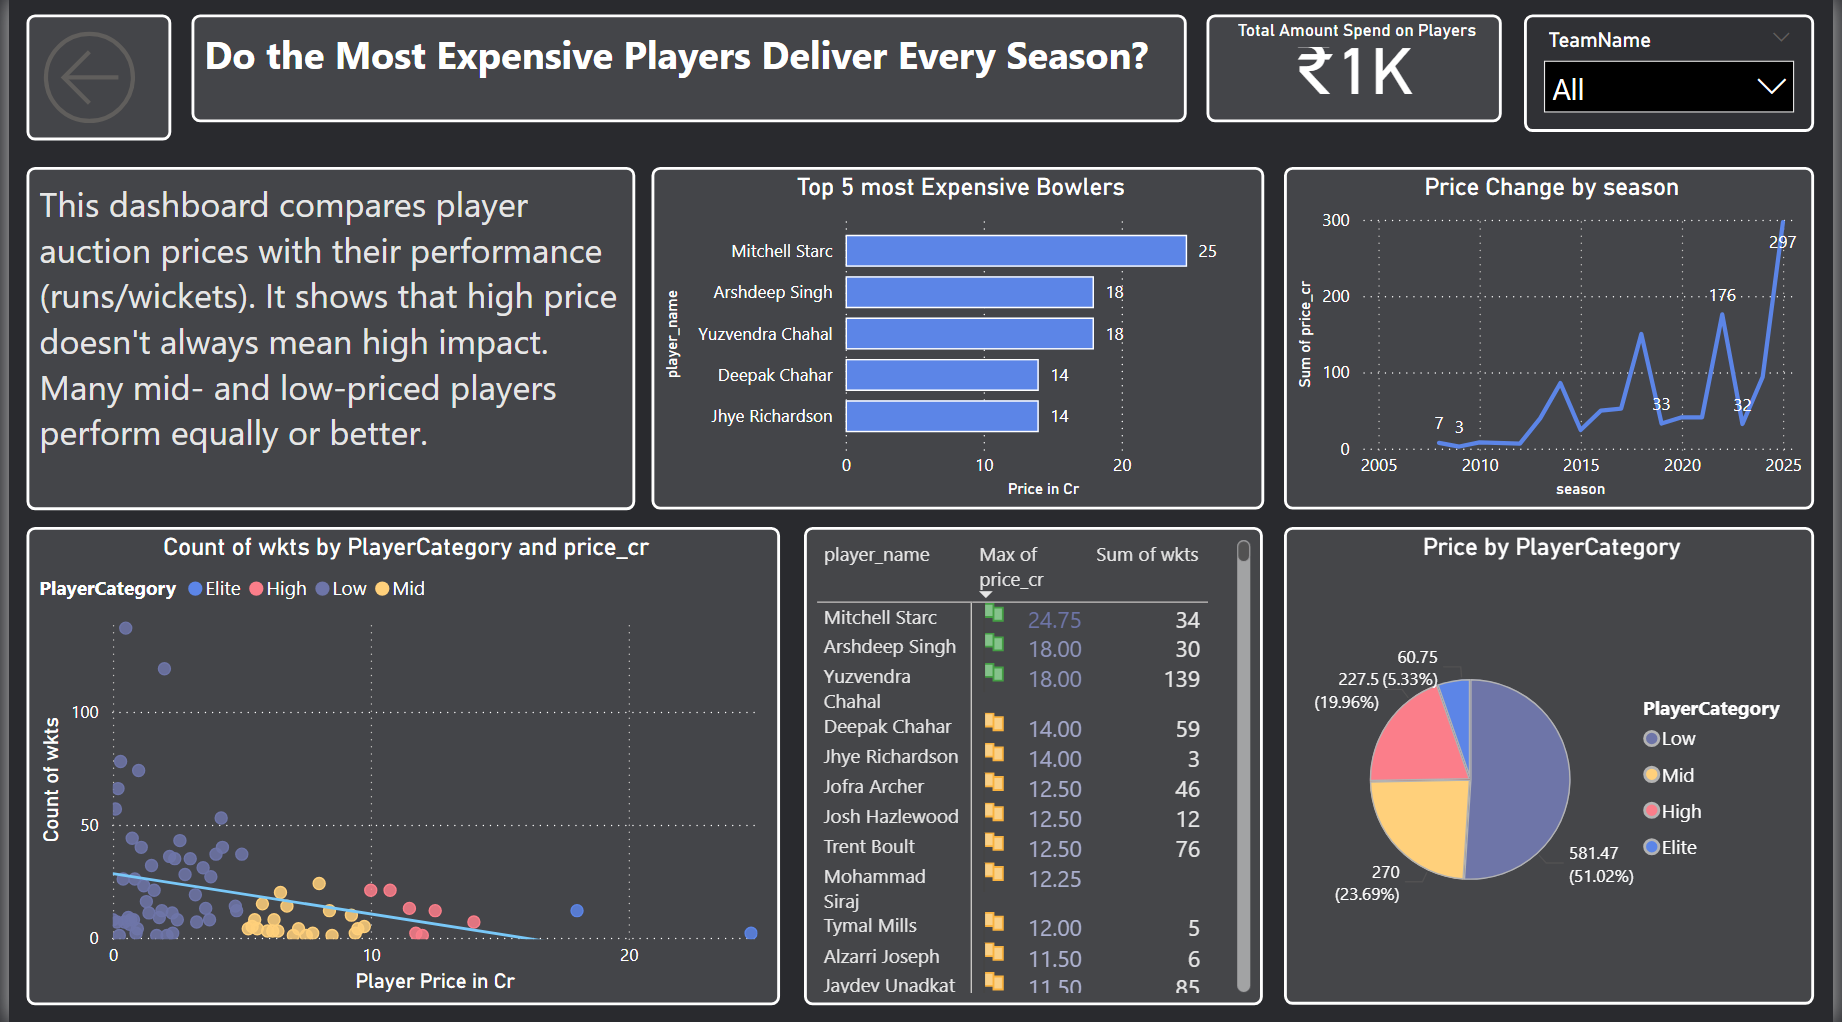

Layout of this report page (visuals, bound fields, positions):
{"tool":"powerbi","page":{"name":"Price vs Performance ","canvas":[1280,720],"ordinal":2},"visuals":[{"type":"clusteredBarChart","title":"Top 5 most Expensive Bowlers","fields":{"Category":["auction_data_final.player_name"],"Y":["auction_data_final.price_cr"]},"box":[450.9,119.3,429.8,240.4],"z":0},{"type":"scatterChart","fields":{"Series":["auction_data_final.PlayerCategory"],"X":["auction_data_final.price_cr"],"Y":["most_wickets_final.wkts"]},"box":[11.9,371.2,528.8,335.6],"z":1000},{"type":"textbox","box":[128.1,12.3,698.2,75.4],"z":2000},{"type":"pivotTable","fields":{"Rows":["auction_data_final.player_name"],"Values":["auction_data_final.price_cr","most_wickets_final.wkts"]},"box":[557.6,371.2,322,335.6],"z":3000},{"type":"card","title":"Total Amount Spend on Players","fields":{"Values":["auction_data_final.price_cr"]},"box":[840.4,12.3,207,75.4],"z":4000},{"type":"textbox","box":[11.9,118.6,427.1,240.7],"z":5000},{"type":"actionButton","box":[11.7,11.7,101.7,88.3],"z":6000},{"type":"pieChart","title":"Price by PlayerCategory","fields":{"Category":["auction_data_final.PlayerCategory"],"Y":["auction_data_final.price_cr"]},"box":[894.7,371.9,371.9,335.1],"z":7000},{"type":"lineChart","title":"Price Change by season","fields":{"Category":["auction_data_final.season"],"Y":["auction_data_final.price_cr"]},"box":[894.7,119.3,371.9,240.4],"z":8000},{"type":"slicer","title":"Select Season","fields":{"Values":["Earning.TeamName"]},"box":[1063.2,12.3,203.5,82.5],"z":9000}]}

Visuals, with their boxes in screenshot pixels (x1, y1, x2, y2), scaled from the page's 1280x720 canvas onto the 1842x1022 screenshot:
"Top 5 most Expensive Bowlers" clusteredBarChart: (x1=649, y1=169, x2=1267, y2=511)
scatterChart - auction_data_final.PlayerCategory x auction_data_final.price_cr: (x1=17, y1=527, x2=778, y2=1003)
textbox: (x1=184, y1=17, x2=1189, y2=124)
pivotTable - auction_data_final.player_name x auction_data_final.price_cr: (x1=802, y1=527, x2=1266, y2=1003)
"Total Amount Spend on Players" card: (x1=1209, y1=17, x2=1507, y2=124)
textbox: (x1=17, y1=168, x2=632, y2=510)
actionButton: (x1=17, y1=17, x2=163, y2=142)
"Price by PlayerCategory" pieChart: (x1=1288, y1=528, x2=1823, y2=1004)
"Price Change by season" lineChart: (x1=1288, y1=169, x2=1823, y2=511)
"Select Season" slicer: (x1=1530, y1=17, x2=1823, y2=135)
